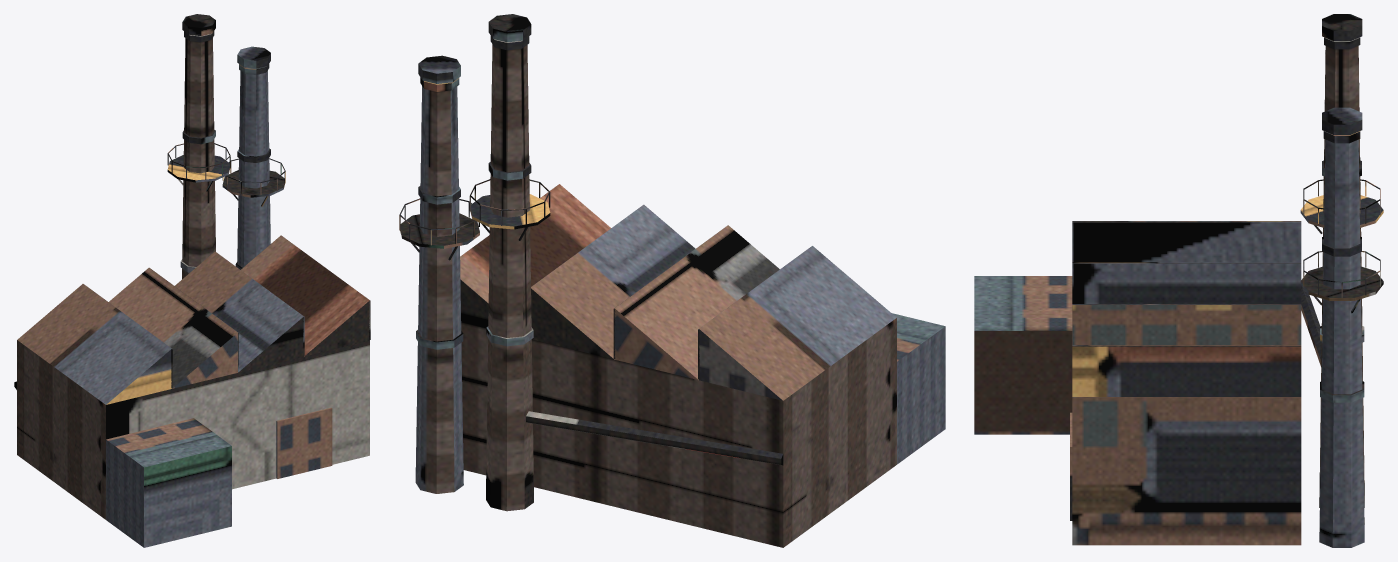
File: SM_Factory_A.fbx
3 renders of one model, left to right at view 1: azimuth 30°, elevation 25°; view 2: azimuth 150°, elevation 25°; view 3: azimuth 270°, elevation 25°, orthographic. The views are drawn at different scales.
Parts seen in each view (by area): view 1: SM_Factory_A; view 2: SM_Factory_A; view 3: SM_Factory_A.
Boxes of the visible parts, x1,y1,x2,y2 form: SM_Factory_A: (14, 14, 370, 547); SM_Factory_A: (399, 14, 945, 547); SM_Factory_A: (974, 14, 1383, 547).
Size of what is drawn, in the model's own units: 2554 by 3250 by 2504.
Materials: 2 (2 with a texture image).
